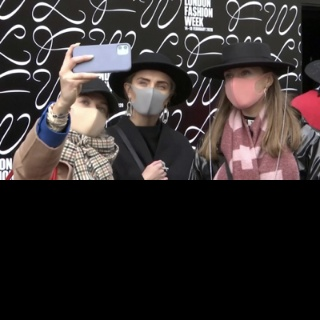with_mask: (69, 93, 108, 136), (224, 67, 264, 108), (132, 76, 171, 118)
